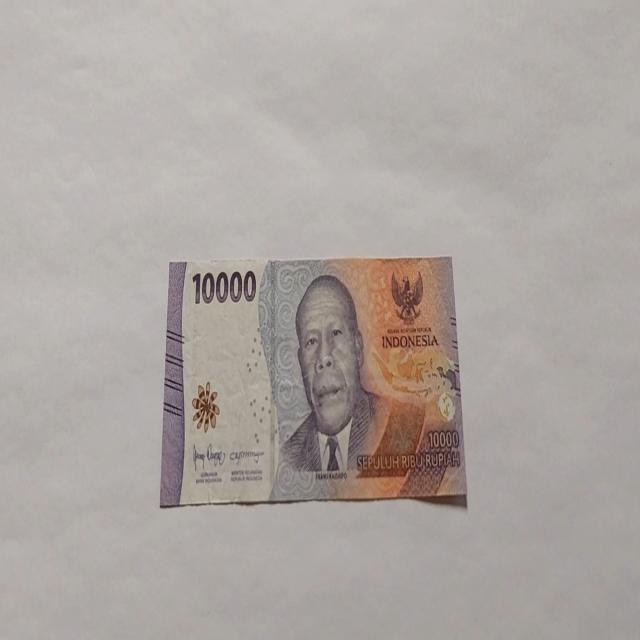sepuluh ribu rupiah: (160, 254, 468, 508), (267, 271, 425, 501)
